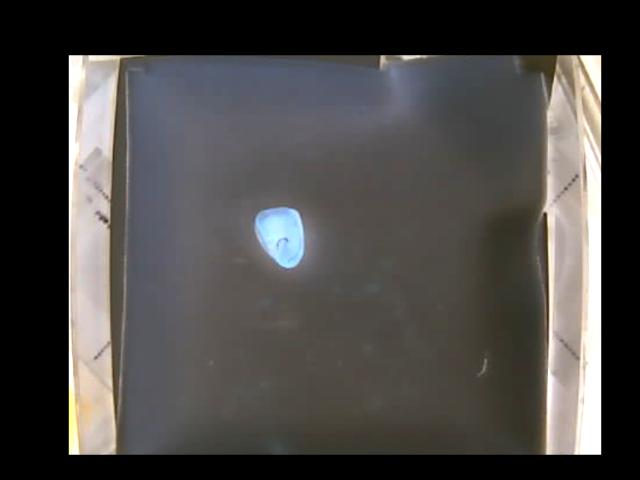Pebble: (254, 205, 306, 268)
